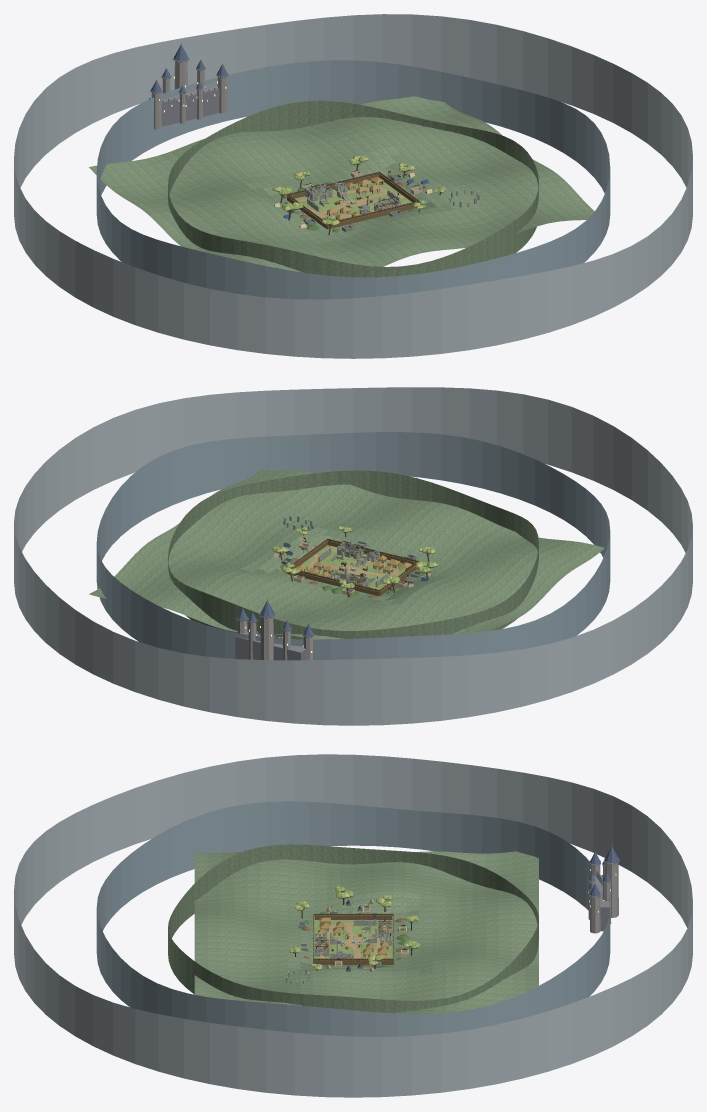
The model's file is camlann_visual.glb.
The picture shows the model from 3 angles, top to bottom: view 1: azimuth 30°, elevation 25°; view 2: azimuth 150°, elevation 25°; view 3: azimuth 270°, elevation 25°; orthographic projection.
Parts seen in each view (by area): view 1: DETAIL_chapter_craft, BATCH_town, VIS_battlefield_floor; view 2: DETAIL_chapter_craft, BATCH_town, VIS_battlefield_floor; view 3: DETAIL_chapter_craft, BATCH_town, VIS_battlefield_floor.
Part boxes in pixels (x1,y1,x2,y2): DETAIL_chapter_craft: [14, 14, 692, 358]; BATCH_town: [305, 177, 401, 220]; VIS_battlefield_floor: [294, 180, 411, 229]; DETAIL_chapter_craft: [14, 387, 692, 725]; BATCH_town: [295, 541, 411, 587]; VIS_battlefield_floor: [301, 545, 405, 596]; DETAIL_chapter_craft: [14, 754, 692, 1097]; BATCH_town: [314, 917, 392, 958]; VIS_battlefield_floor: [314, 920, 392, 958].
Size of the model in its own units: 410 by 61.2 by 410.
Materials: 38 (19 with a texture image).
